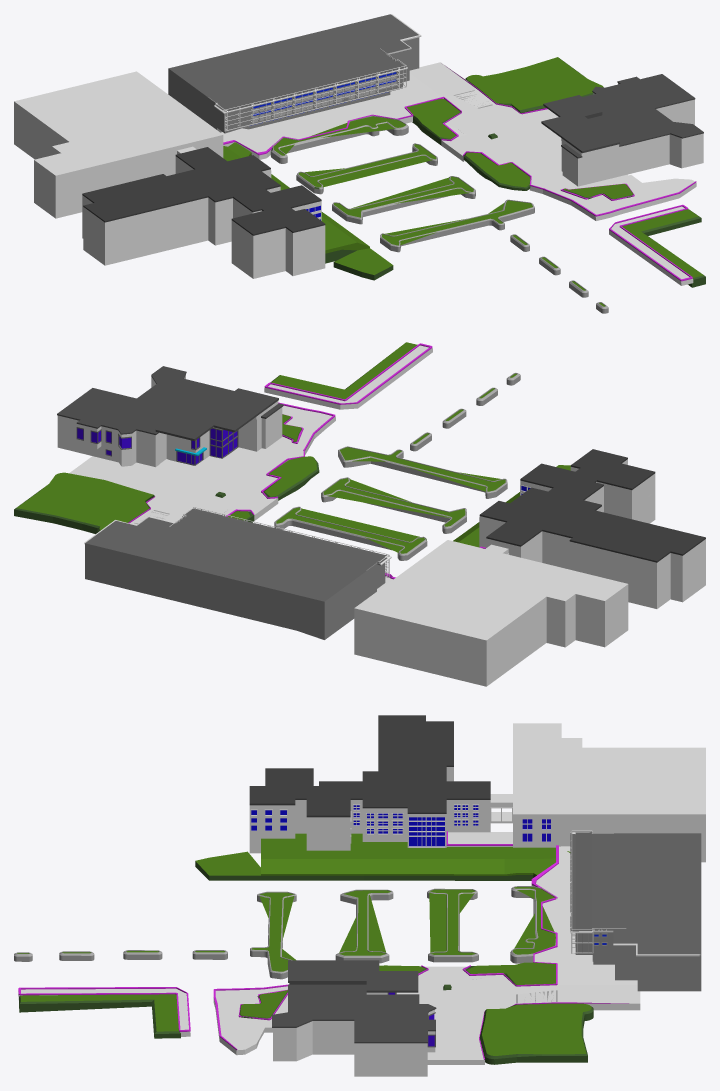
File: OUTSIdESIMP4.fbx
3 views of the same model, one above another, from view 1: azimuth 30°, elevation 25°; view 2: azimuth 150°, elevation 25°; view 3: azimuth 270°, elevation 25° (orthographic). The views are drawn at different scales.
Visible parts, largest first — view 1: Cube; view 2: Cube; view 3: Cube.
Part boxes in pixels (bbox=[...]): Cube: bbox=[14, 14, 705, 313]; Cube: bbox=[14, 342, 705, 686]; Cube: bbox=[14, 715, 705, 1076].
Bounding box in the file's own units: 4488 × 406 × 4168.
